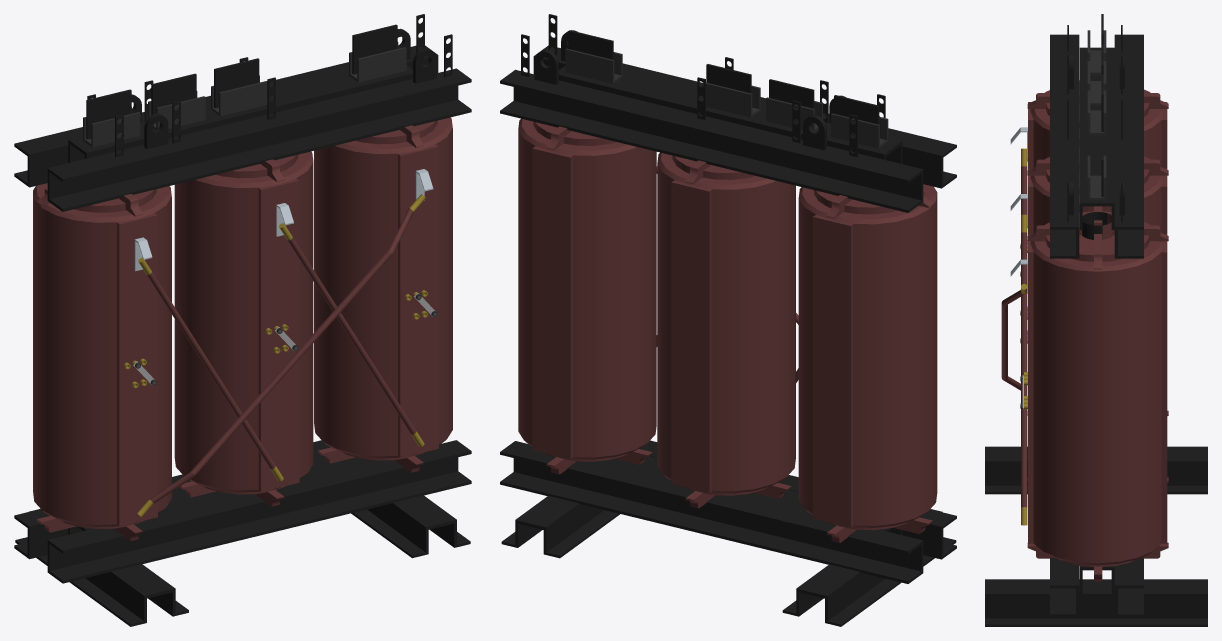
Rendered from TR_INNER.fbx.
The picture shows the model from 3 angles, left to right: view 1: azimuth 30°, elevation 25°; view 2: azimuth 150°, elevation 25°; view 3: azimuth 270°, elevation 25°; orthographic projection. The views are drawn at different scales.
Visible parts, largest first — view 1: TR_INNER; view 2: TR_INNER; view 3: TR_INNER.
Part boxes in pixels (x1=…): TR_INNER: x1=14, y1=14, x2=471, y2=626; TR_INNER: x1=500, y1=14, x2=956, y2=626; TR_INNER: x1=985, y1=14, x2=1207, y2=626.
Size of the model in its own units: 0.8158 by 0.9105 by 0.3988.
2 materials, 1 textured.
